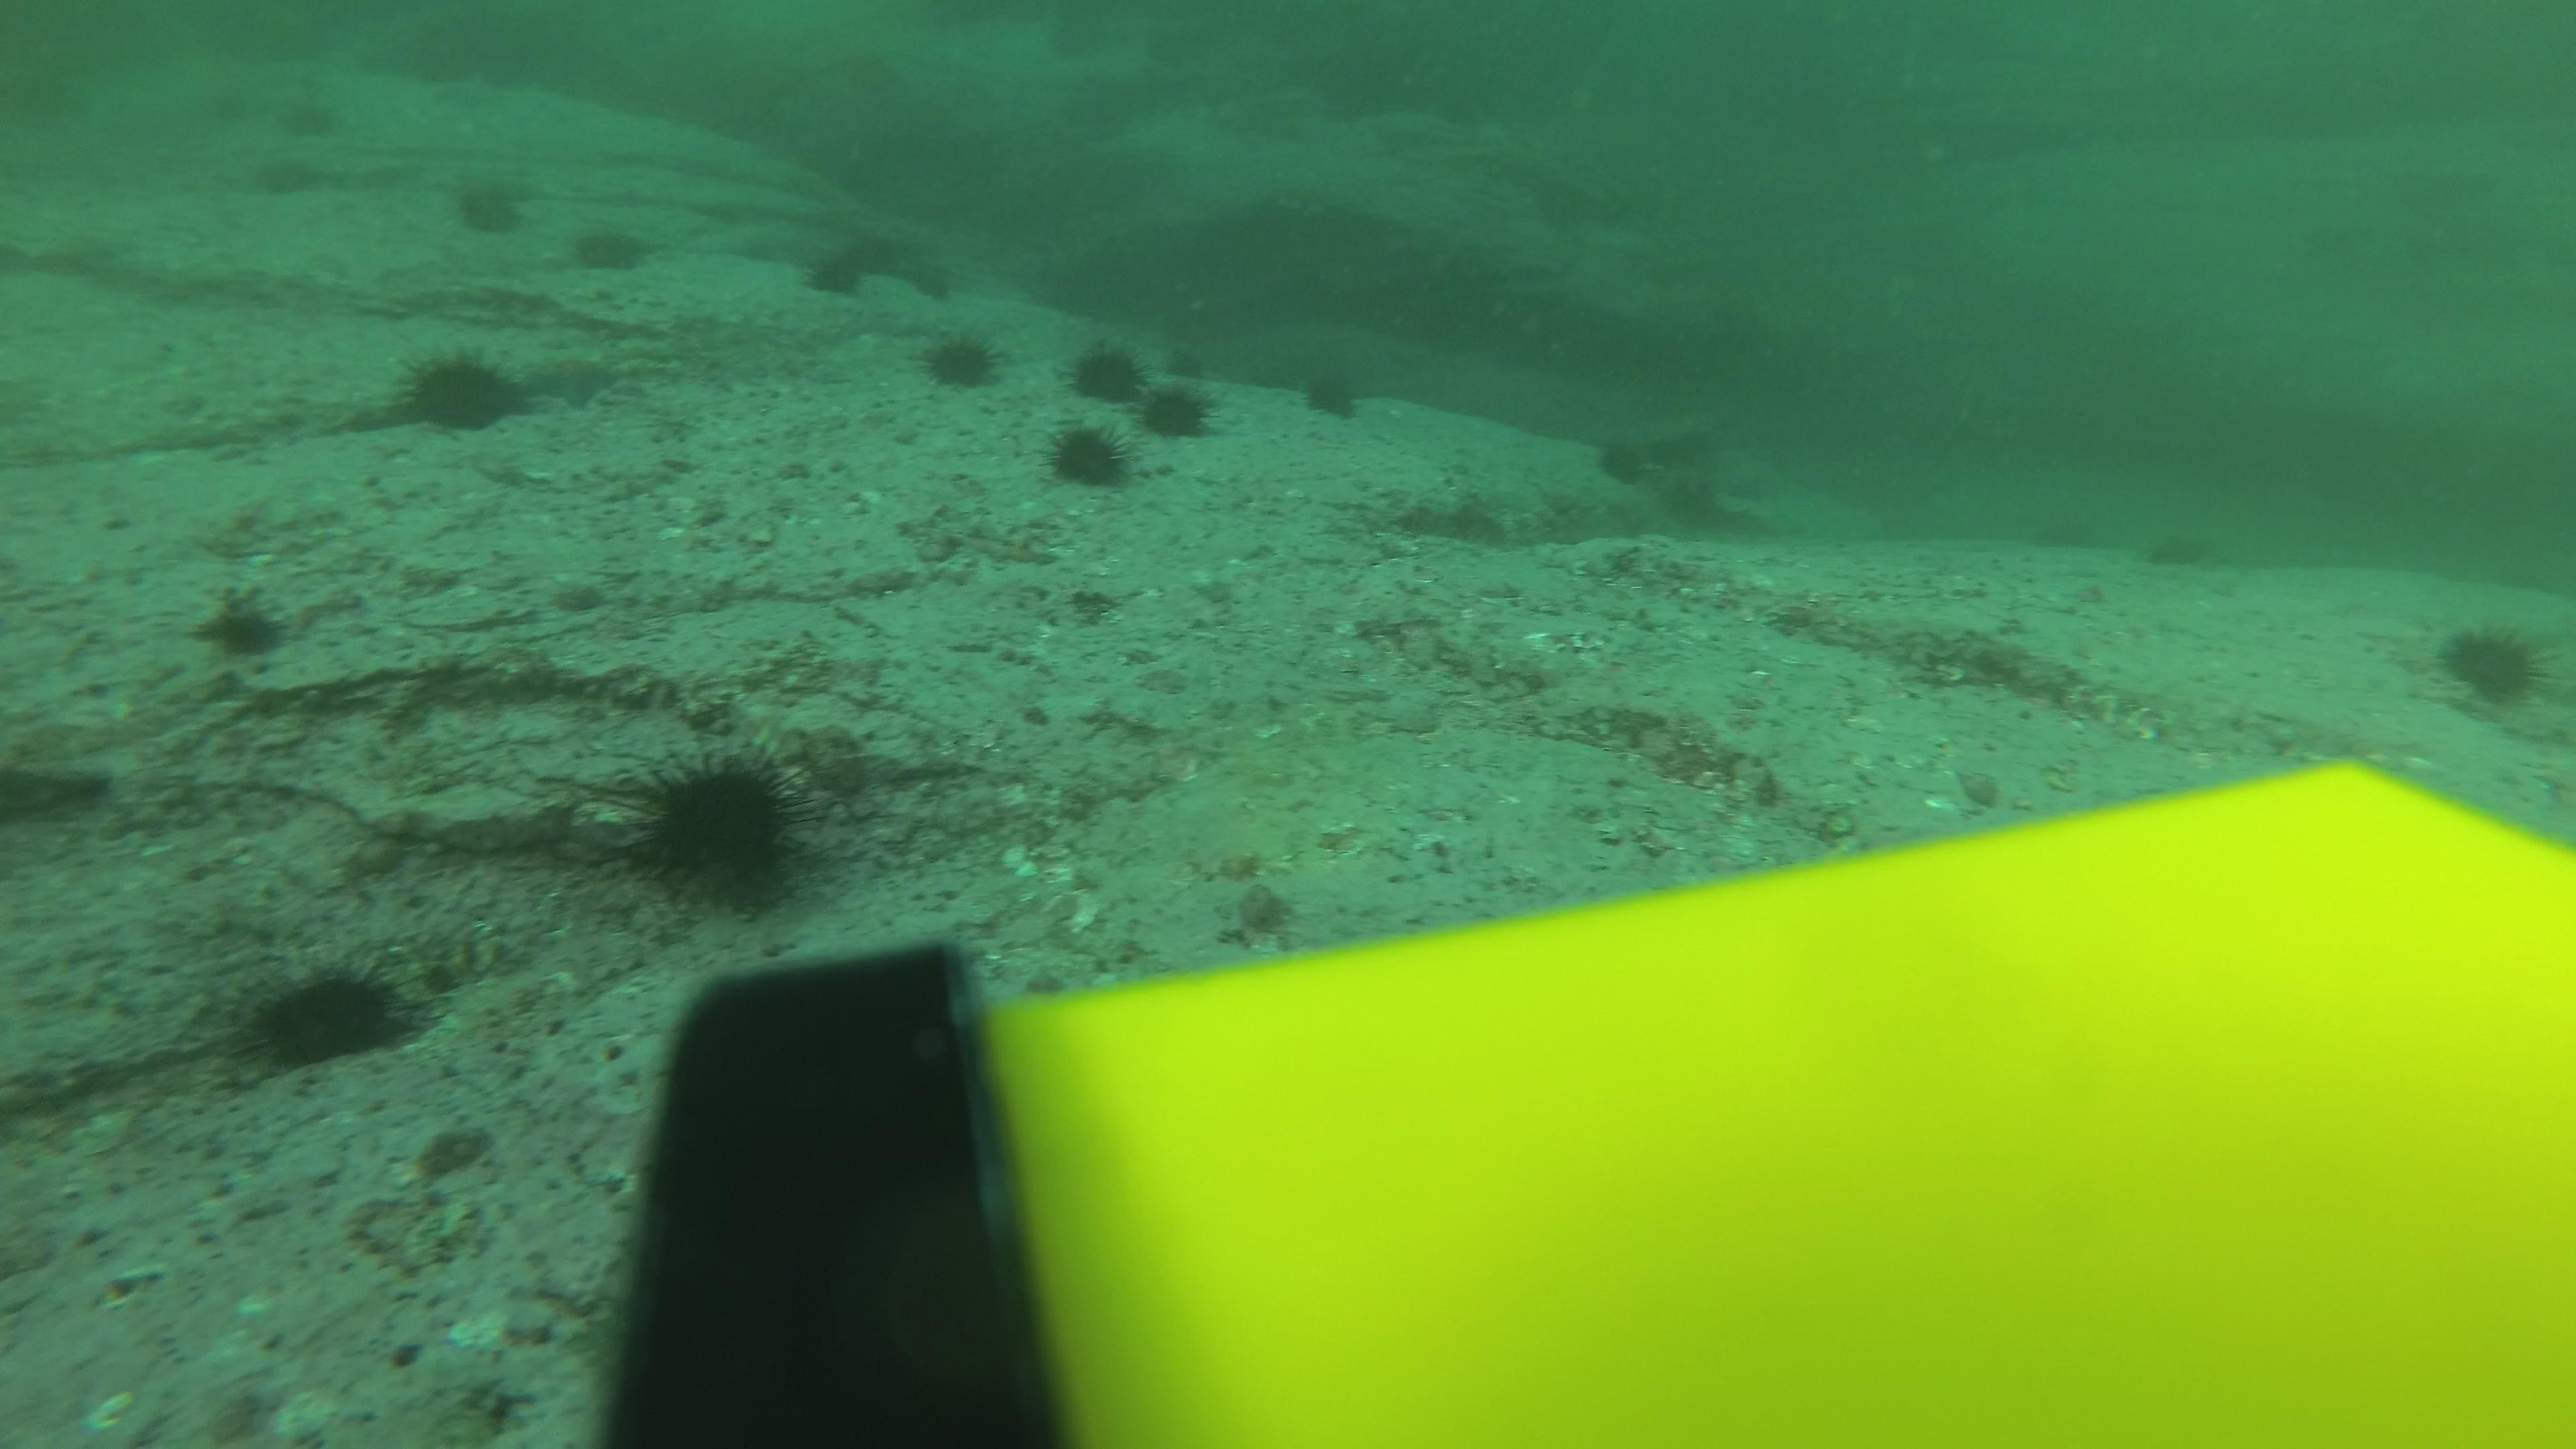echinus: (616, 741, 821, 911), (235, 955, 421, 1077), (391, 341, 533, 441), (2427, 614, 2555, 717), (1063, 334, 1161, 425), (196, 587, 299, 669), (1040, 418, 1138, 499), (796, 228, 892, 304), (444, 165, 536, 242), (904, 241, 998, 317), (1136, 368, 1224, 448), (913, 322, 1007, 396), (566, 214, 656, 280), (1292, 357, 1373, 428), (1589, 441, 1645, 494), (2166, 527, 2224, 579), (1146, 19, 1205, 71), (1046, 5, 1102, 57)
starfish: (508, 349, 632, 414)
